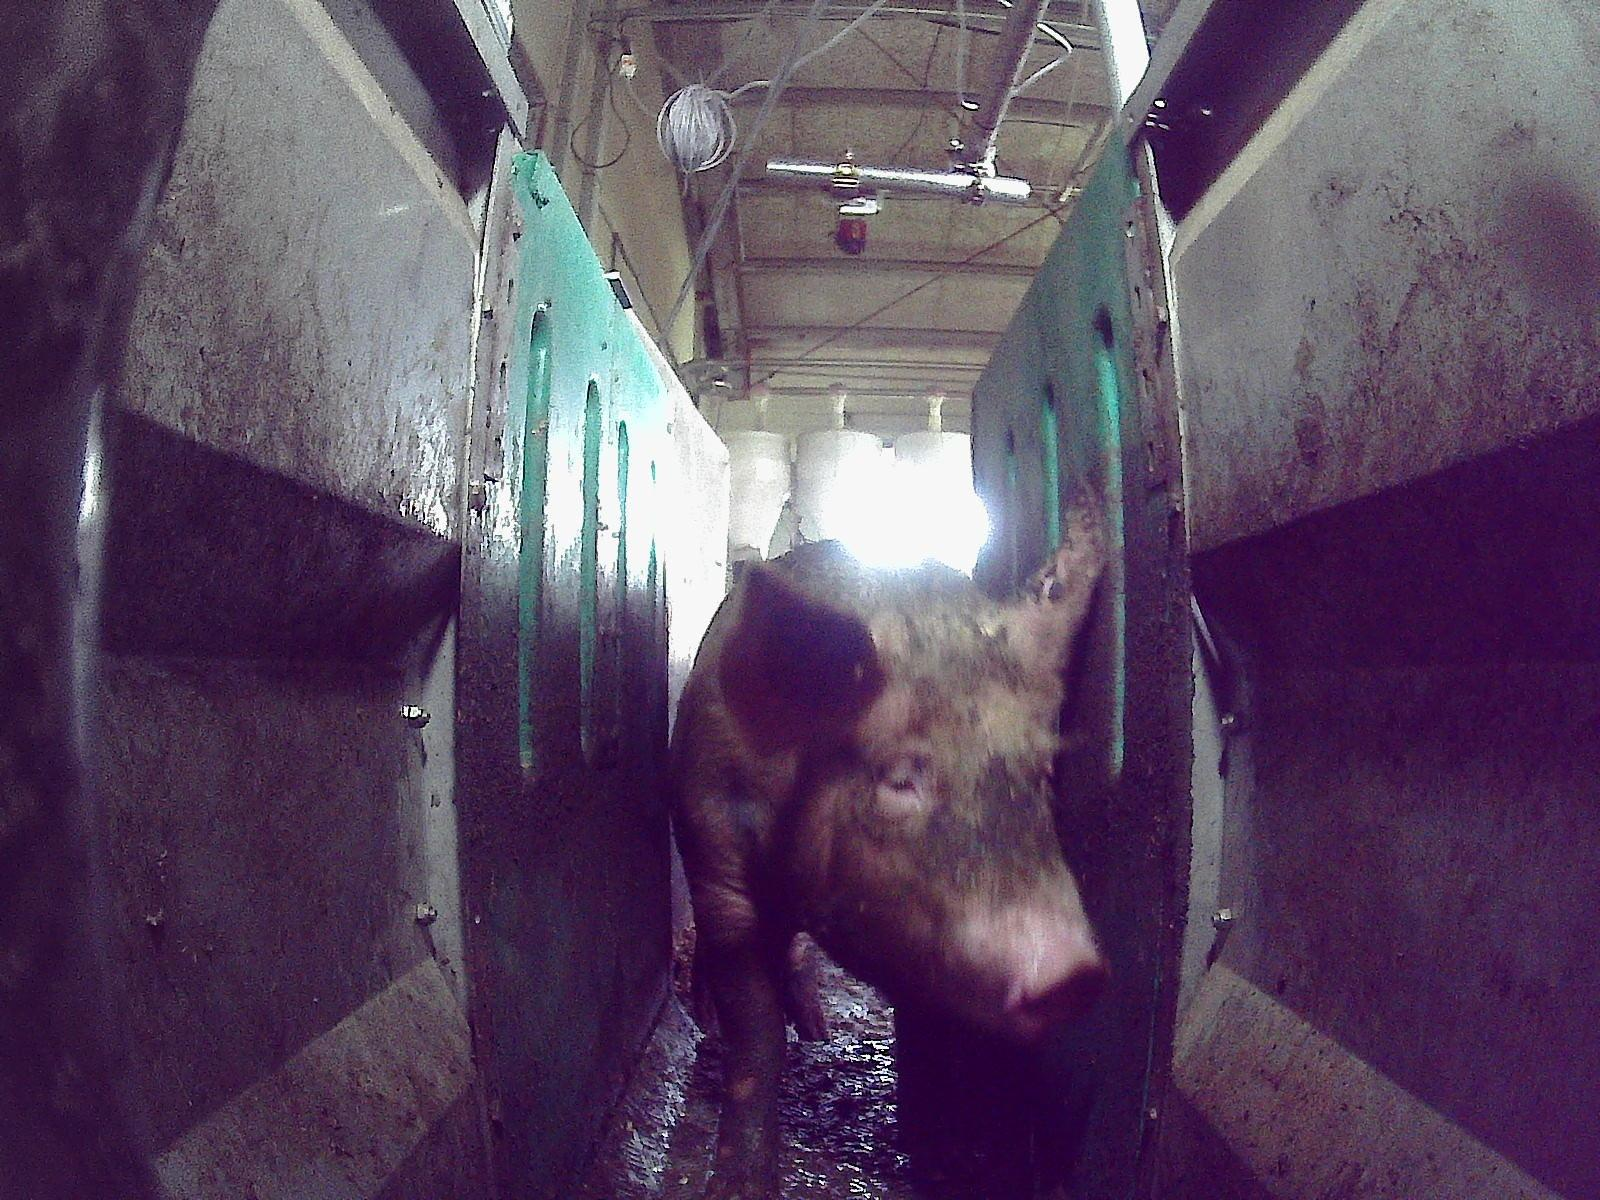Face: (813, 618, 1110, 1043)
